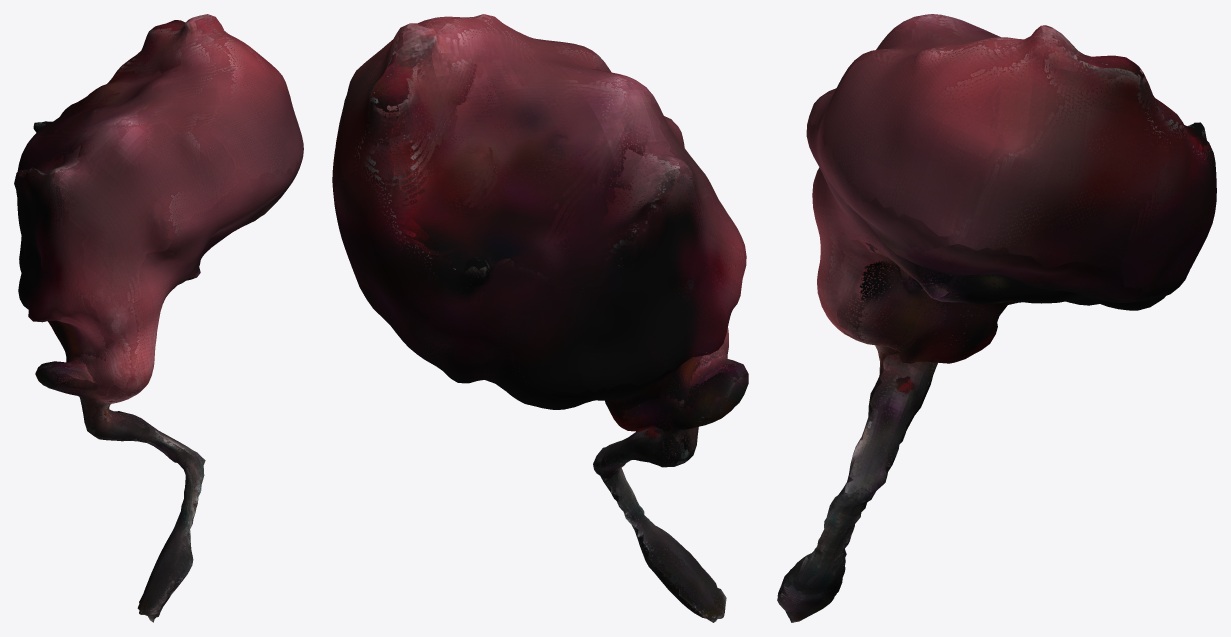
Rendered from 2_toy.glb.
The picture shows the model from 3 angles, left to right: view 1: azimuth 30°, elevation 25°; view 2: azimuth 150°, elevation 25°; view 3: azimuth 270°, elevation 25°; orthographic projection. The views are drawn at different scales.
Visible parts, largest first — view 1: 2_toy.obj; view 2: 2_toy.obj; view 3: 2_toy.obj.
Boxes of the visible parts, bbox=[...] form: 2_toy.obj: bbox=[14, 14, 303, 622]; 2_toy.obj: bbox=[332, 14, 748, 622]; 2_toy.obj: bbox=[777, 14, 1216, 622].
Size of the model in its own units: 0.0518 by 0.0911 by 0.0529.
1 material, 1 textured.
